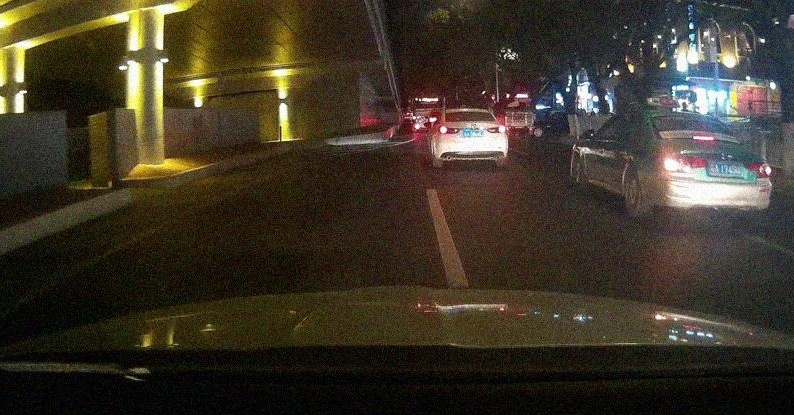L_light: (663, 154, 707, 172), (439, 126, 461, 134)
R_light: (748, 162, 772, 178), (487, 125, 506, 134)
T_light: (693, 136, 714, 141), (464, 111, 474, 113)
night-brake: (646, 111, 772, 223)
night-no: (438, 108, 508, 168)
